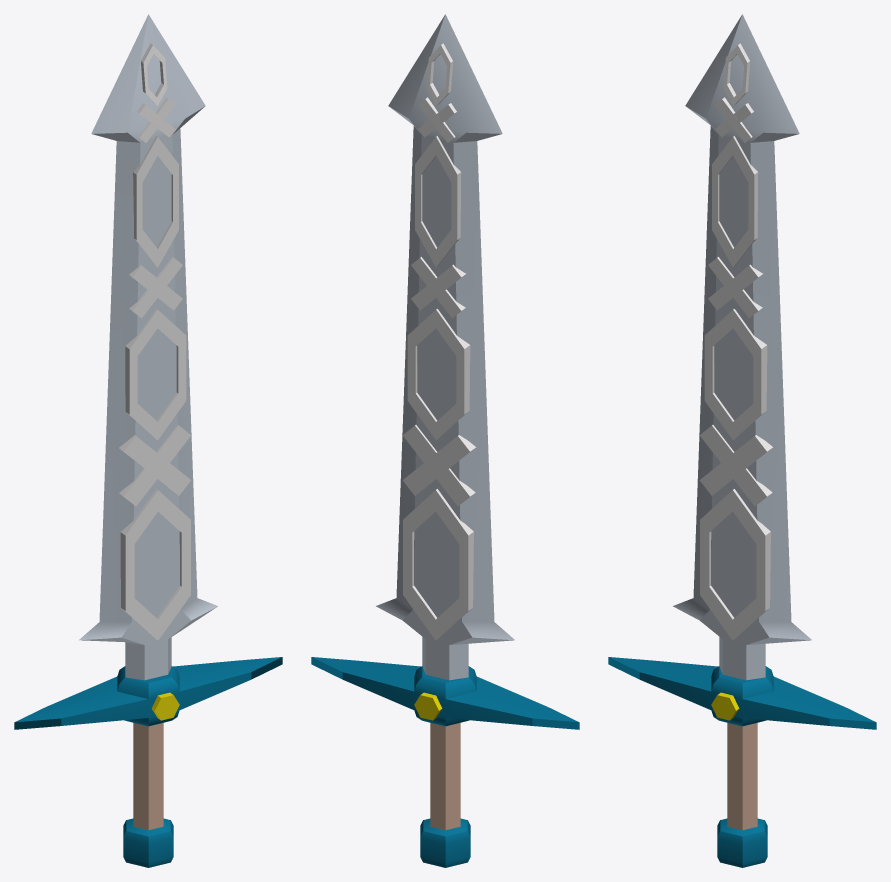
Rendered from SlashCardFrostbladeV3.fbx.
The picture shows the model from 3 angles, left to right: view 1: azimuth 30°, elevation 25°; view 2: azimuth 150°, elevation 25°; view 3: azimuth 330°, elevation 25°; orthographic projection.
Parts seen in each view (by area): view 1: Sword, SwordRunes; view 2: Sword, SwordRunes; view 3: Sword, SwordRunes.
Part boxes in pixels (left/top/right/bottom): Sword: left=14, top=14, right=282, bottom=867; SwordRunes: left=119, top=43, right=191, bottom=640; Sword: left=311, top=14, right=579, bottom=867; SwordRunes: left=402, top=43, right=475, bottom=640; Sword: left=608, top=14, right=876, bottom=867; SwordRunes: left=699, top=43, right=772, bottom=640.
Size of the model in its own units: 10.59 by 31.93 by 2.59.
